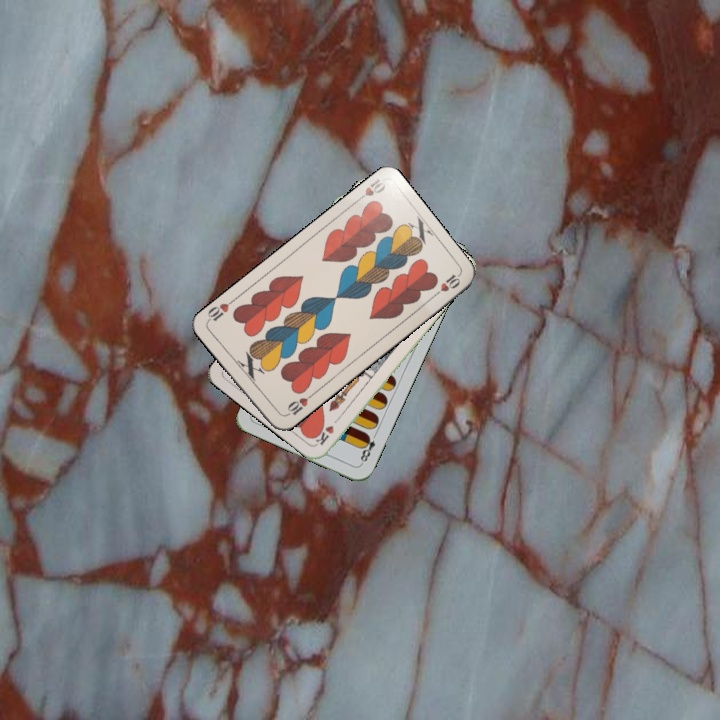E8: (356, 429, 380, 467)
H10: (351, 175, 389, 205), (280, 390, 315, 419)
HK: (311, 412, 343, 448)
